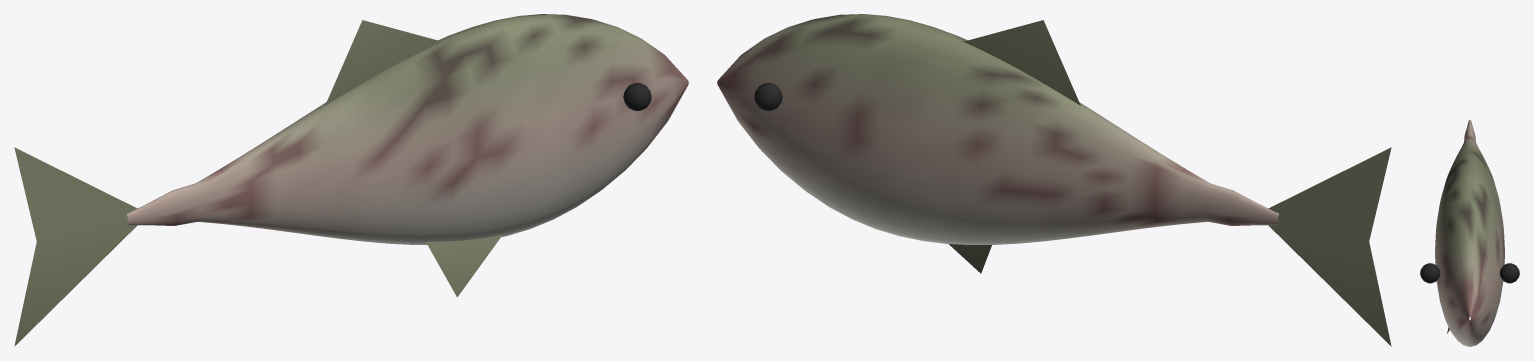
The model's file is fish_pstruh.glb.
3 renders of one model, left to right at view 1: azimuth 30°, elevation 25°; view 2: azimuth 150°, elevation 25°; view 3: azimuth 270°, elevation 25°, orthographic. The views are drawn at different scales.
Parts seen in each view (by area): view 1: fish_pstruh; view 2: fish_pstruh; view 3: fish_pstruh.
Part boxes in pixels (x1,y1,x2,y2): fish_pstruh: [14, 14, 688, 346]; fish_pstruh: [717, 14, 1391, 346]; fish_pstruh: [1420, 120, 1519, 346].
Bounding box in the file's own units: 0.9144 × 0.3696 × 0.1652.
